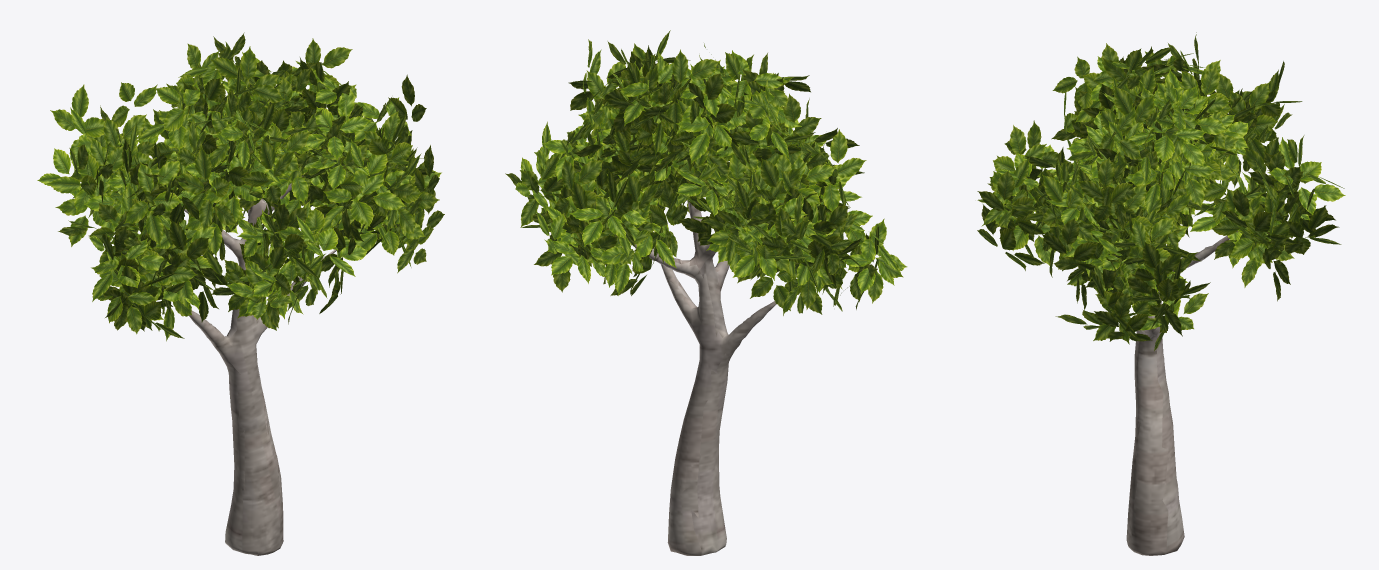
Rendered from cincis-beech-remesh-study.glb.
3 views of the same model, side by side, from view 1: azimuth 30°, elevation 25°; view 2: azimuth 150°, elevation 25°; view 3: azimuth 270°, elevation 25° (orthographic).
Parts seen in each view (by area): view 1: Foliage, Trunk and branches; view 2: Foliage, Trunk and branches; view 3: Foliage, Trunk and branches.
Boxes of the visible parts, x1,y1,x2,y2 form: Foliage: [37, 32, 444, 341]; Trunk and branches: [184, 175, 353, 555]; Foliage: [505, 30, 907, 315]; Trunk and branches: [635, 200, 789, 555]; Foliage: [977, 32, 1345, 350]; Trunk and branches: [1126, 231, 1237, 555].
Size of the model in its own units: 6.99 by 8.82 by 6.28.
2 materials, 2 textured.
